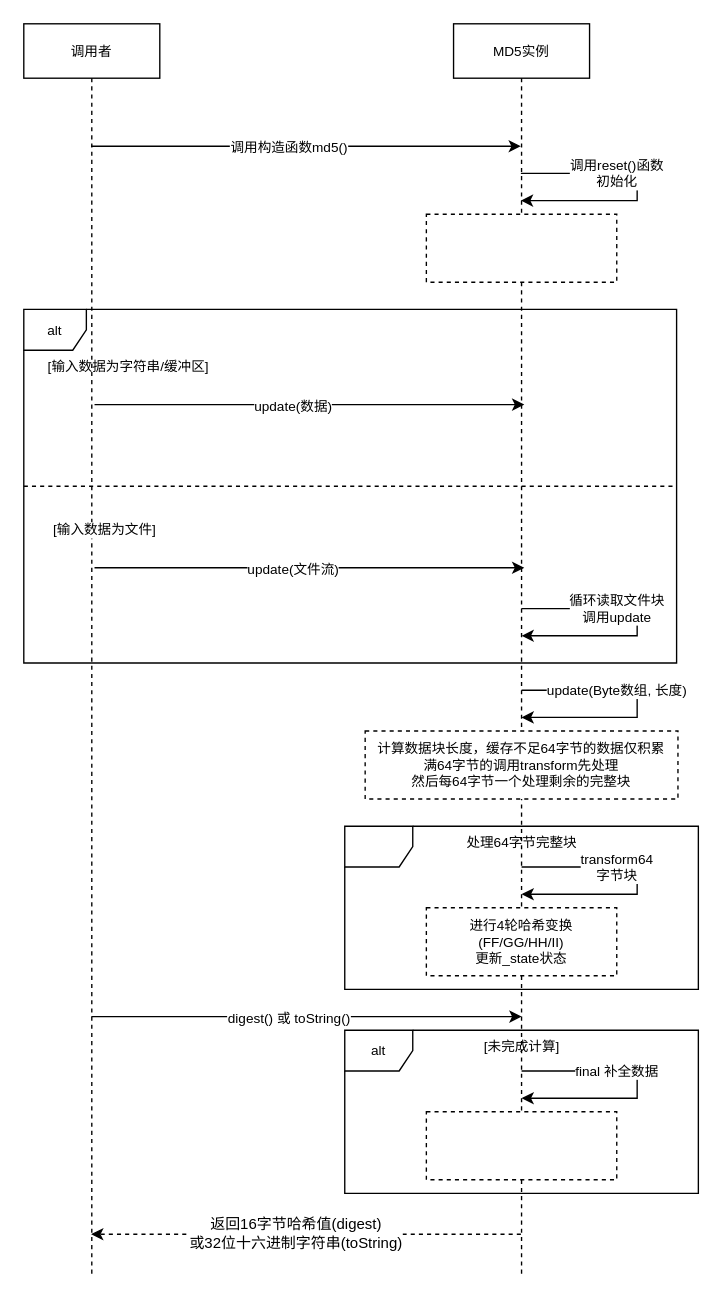
This 722x1299 diagram has some shape labels left out. The shapes that lost their labels are listed below. From the top down, each one's box as (x1, y1, x2, y2) in pixels, then its label:
(425, 213, 617, 282): 重置_state _count _buffer 标记_finish为false
(343, 825, 698, 989): loop 循环
(425, 1110, 617, 1180): 填充0x80以及长度信息 处理最后一块数据 编码_state 到 _digest
